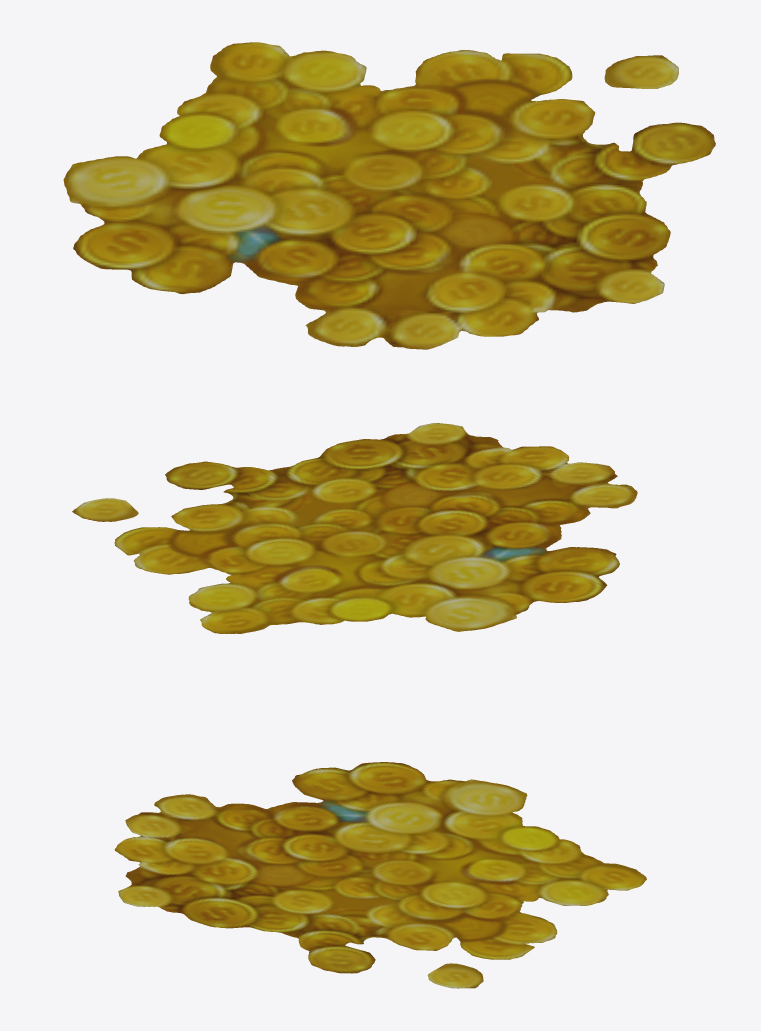
File: Dxlm_toutie04.FBX
The picture shows the model from 3 angles, top to bottom: view 1: azimuth 30°, elevation 25°; view 2: azimuth 150°, elevation 25°; view 3: azimuth 270°, elevation 25°; orthographic projection. The views are drawn at different scales.
Visible parts, largest first — view 1: Dxlm_toutie04; view 2: Dxlm_toutie04; view 3: Dxlm_toutie04.
Part boxes in pixels (bbox=[...]): Dxlm_toutie04: bbox=[63, 42, 715, 349]; Dxlm_toutie04: bbox=[72, 423, 637, 633]; Dxlm_toutie04: bbox=[114, 762, 646, 988].
Size of the model in its own units: 93.62 by 96.12 by 0.000187.
